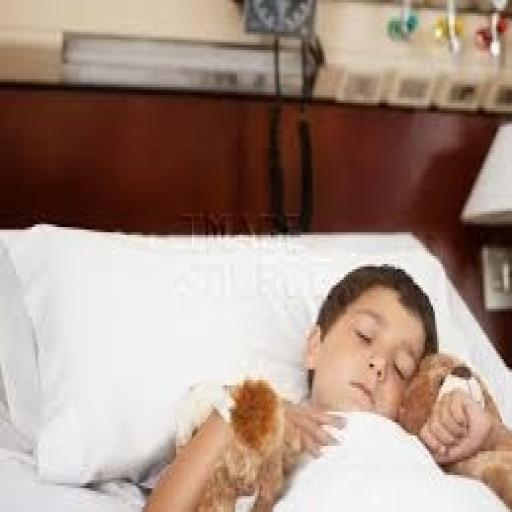sleeping: (138, 259, 510, 509)
